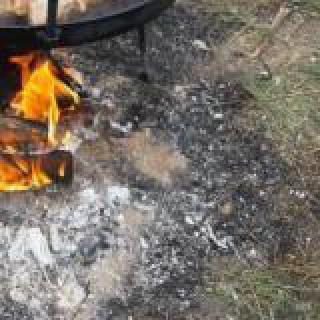fire: (0, 42, 76, 196)
